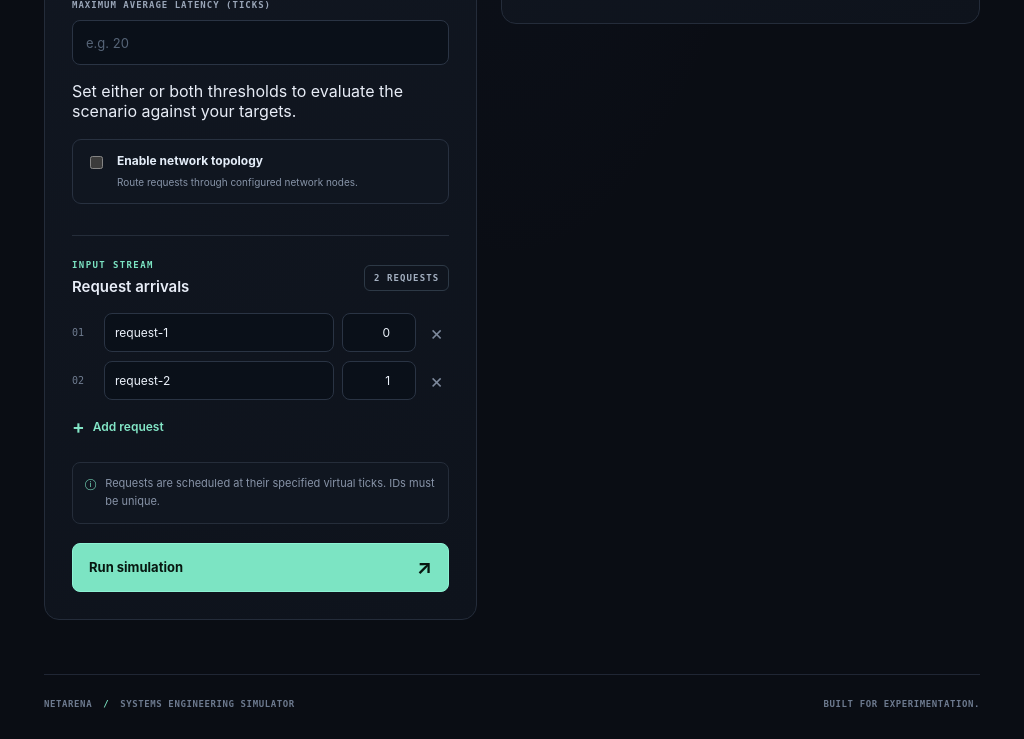
Scenario: NetArena dashboard › adds and removes request arrivals
This screenshot has width=1024, height=739.
(page scrolled)
Expected: the field named "Request 1 ID" holds "request-1", [104, 313, 334, 352]
Expected: the field named "Request 2 ID" holds "request-2", [104, 361, 334, 400]
Click the button "+ Add request". click: click(118, 427)
box: [72, 415, 164, 438]
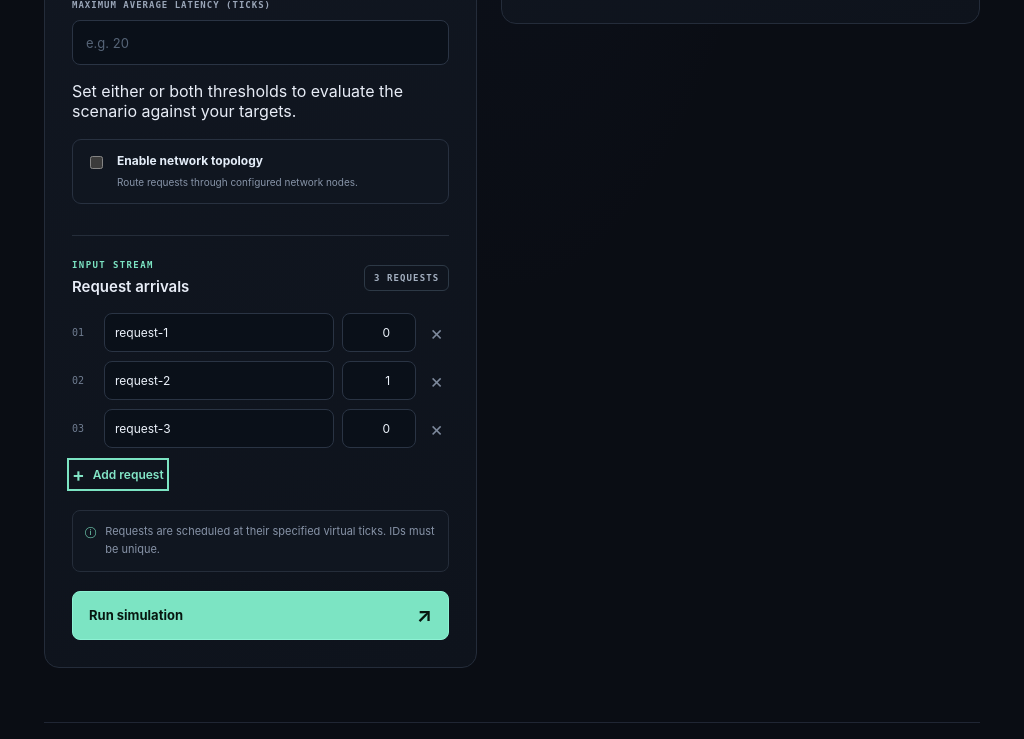
Expected: the field named "Request 3 ID" holds "request-3", [104, 409, 334, 448]
Expected: the text "3 REQUESTS" is shown, [364, 265, 449, 291]
Click the button named "Remove request 2". click: click(437, 381)
box: [424, 365, 449, 397]
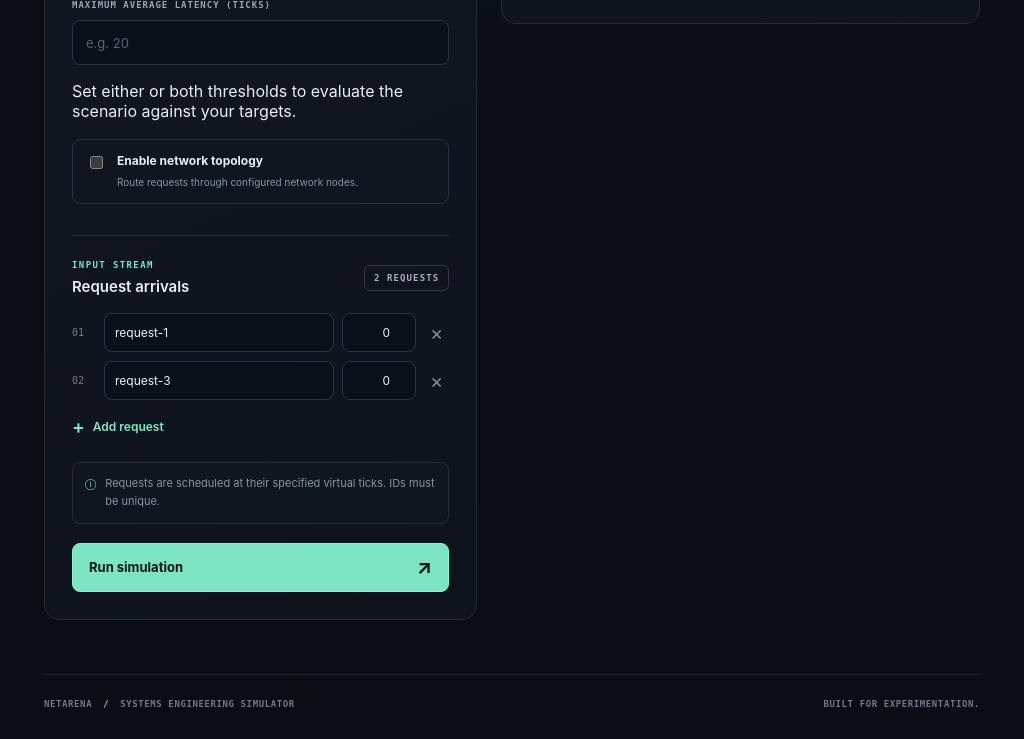
Expected: the text "2 REQUESTS" is shown, [364, 265, 449, 291]
